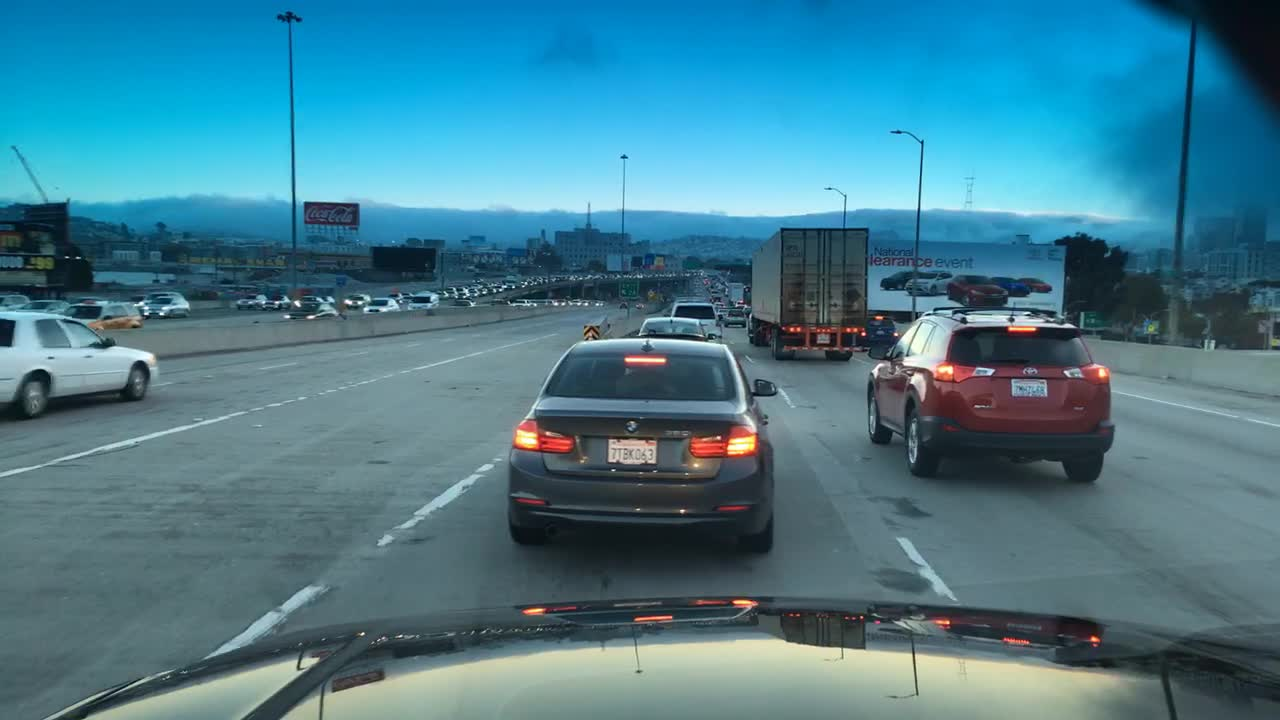car: (509, 334, 778, 555), (866, 303, 1116, 479), (0, 311, 162, 419), (63, 299, 143, 330), (673, 297, 724, 341), (637, 314, 707, 344), (868, 311, 899, 346), (19, 297, 74, 316), (144, 294, 191, 316), (288, 303, 344, 320), (406, 288, 437, 314), (0, 291, 29, 313), (365, 297, 399, 314), (262, 291, 295, 308), (344, 290, 372, 308), (237, 291, 263, 308), (727, 308, 747, 329), (127, 294, 143, 309), (718, 302, 731, 320), (490, 297, 511, 308), (389, 287, 408, 299), (457, 299, 479, 309), (436, 286, 452, 298), (299, 291, 319, 300), (704, 285, 720, 295), (454, 285, 467, 296), (707, 297, 724, 305), (322, 294, 334, 305), (490, 286, 503, 296), (524, 299, 538, 308), (513, 298, 525, 308), (543, 298, 556, 307), (476, 286, 486, 297), (446, 286, 457, 296), (466, 286, 479, 294)
traffic sign: (623, 276, 638, 297), (679, 257, 700, 270), (650, 255, 665, 270)
truck: (750, 224, 871, 362), (728, 282, 747, 303)
